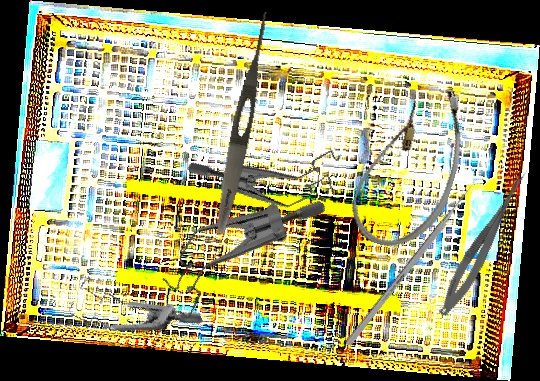Cannula: (343, 72, 479, 260)
Dressing Forceps: (211, 9, 274, 235)
Micro Scissor: (433, 161, 534, 322)
Pusher: (345, 177, 480, 347)
Speculum: (145, 151, 330, 358), (185, 102, 354, 243), (59, 242, 204, 369)
